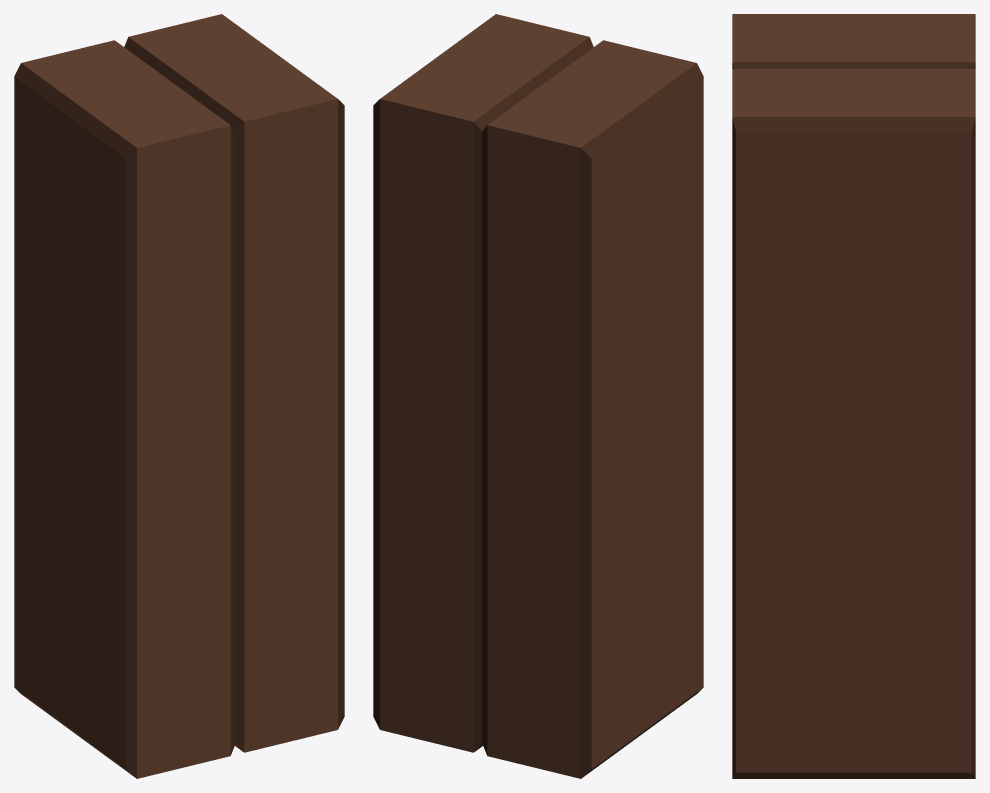
The model's file is breakable_woodenWall_noDmg_mod_01.fbx.
3 renders of one model, left to right at view 1: azimuth 30°, elevation 25°; view 2: azimuth 150°, elevation 25°; view 3: azimuth 270°, elevation 25°, orthographic. The views are drawn at different scales.
Visible parts, largest first — view 1: Cube; view 2: Cube; view 3: Cube.
Boxes of the visible parts, box(x1,y1,x2,y2) form: Cube: box(14, 14, 344, 778); Cube: box(373, 14, 703, 778); Cube: box(732, 14, 975, 778).
Bounding box in the file's own units: 2.17 × 2 × 6.
